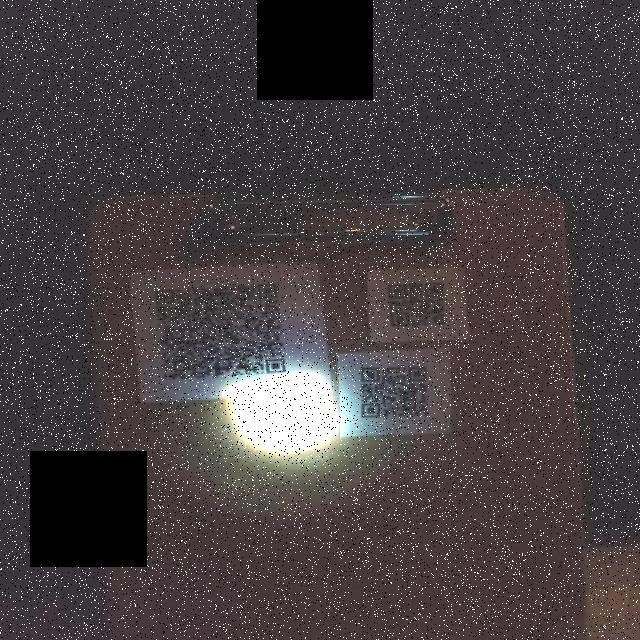QR_CODE: (142, 272, 292, 386), (349, 356, 439, 425), (375, 274, 465, 335)
